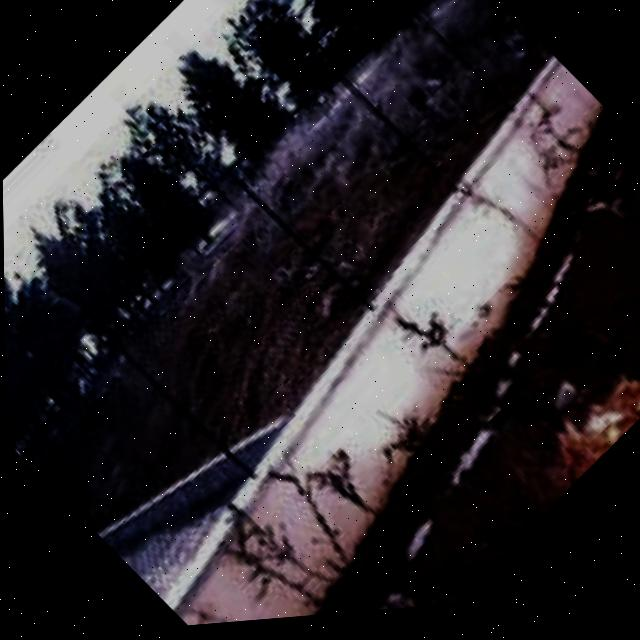Fire: (505, 330, 640, 518)
